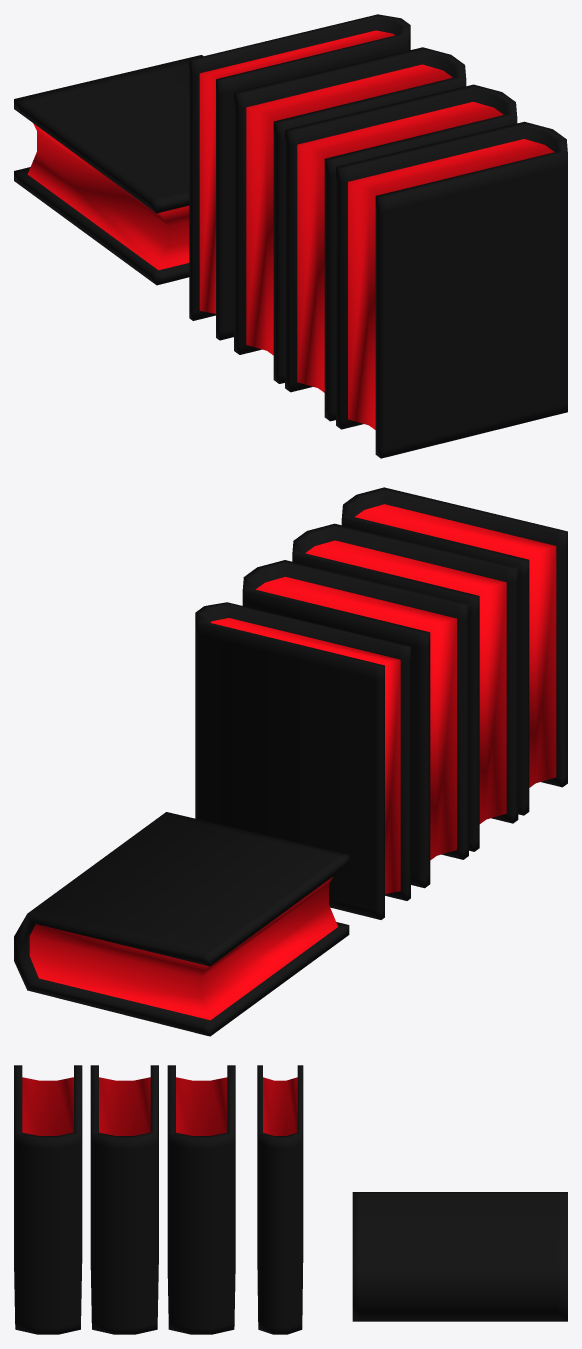
The model's file is Book.glb.
The picture shows the model from 3 angles, top to bottom: view 1: azimuth 30°, elevation 25°; view 2: azimuth 150°, elevation 25°; view 3: azimuth 270°, elevation 25°; orthographic projection. The views are drawn at different scales.
Visible parts, largest first — view 1: Plane.006; view 2: Plane.006; view 3: Plane.006.
Part boxes in pixels (x1=…): Plane.006: x1=14, y1=14, x2=567, y2=458; Plane.006: x1=14, y1=487, x2=567, y2=1036; Plane.006: x1=14, y1=1065, x2=567, y2=1334.
Size of the model in its own units: 0.314 by 0.3853 by 0.9911.
